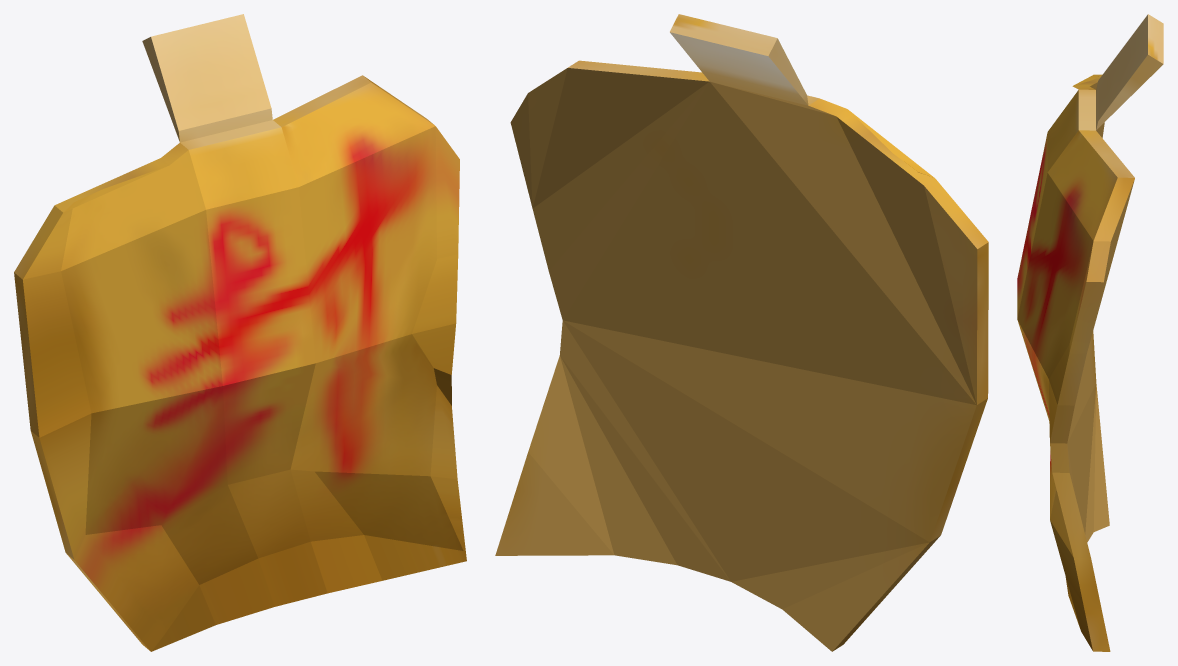
The picture shows the model from 3 angles, left to right: view 1: azimuth 30°, elevation 25°; view 2: azimuth 150°, elevation 25°; view 3: azimuth 270°, elevation 25°; orthographic projection. The views are drawn at different scales.
Parts seen in each view (by area): view 1: 立方体.002; view 2: 立方体.002; view 3: 立方体.002.
Part boxes in pixels (bbox=[...]): 立方体.002: bbox=[14, 14, 466, 651]; 立方体.002: bbox=[495, 14, 988, 651]; 立方体.002: bbox=[1017, 14, 1163, 651].
Size of the model in its own units: 0.3384 by 0.4209 by 0.1064.
